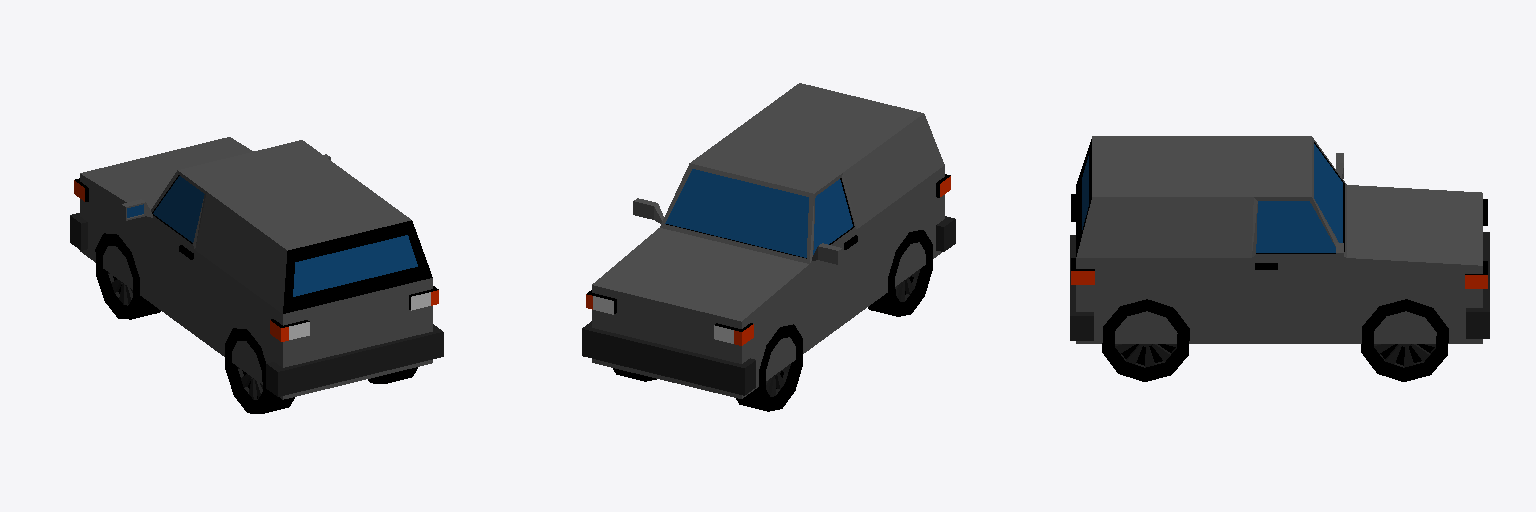
File: suv.obj
The picture shows the model from 3 angles: view 1: azimuth 30°, elevation 25°; view 2: azimuth 150°, elevation 25°; view 3: azimuth 270°, elevation 25°; orthographic projection.
Parts seen in each view (by area): view 1: car001.008_Cube.010; view 2: car001.008_Cube.010; view 3: car001.008_Cube.010.
Part boxes in pixels (bbox=[...]): car001.008_Cube.010: bbox=[70, 137, 443, 413]; car001.008_Cube.010: bbox=[582, 83, 955, 411]; car001.008_Cube.010: bbox=[1070, 136, 1489, 381].
Size of the model in its own units: 1.19 by 0.9919 by 2.11.